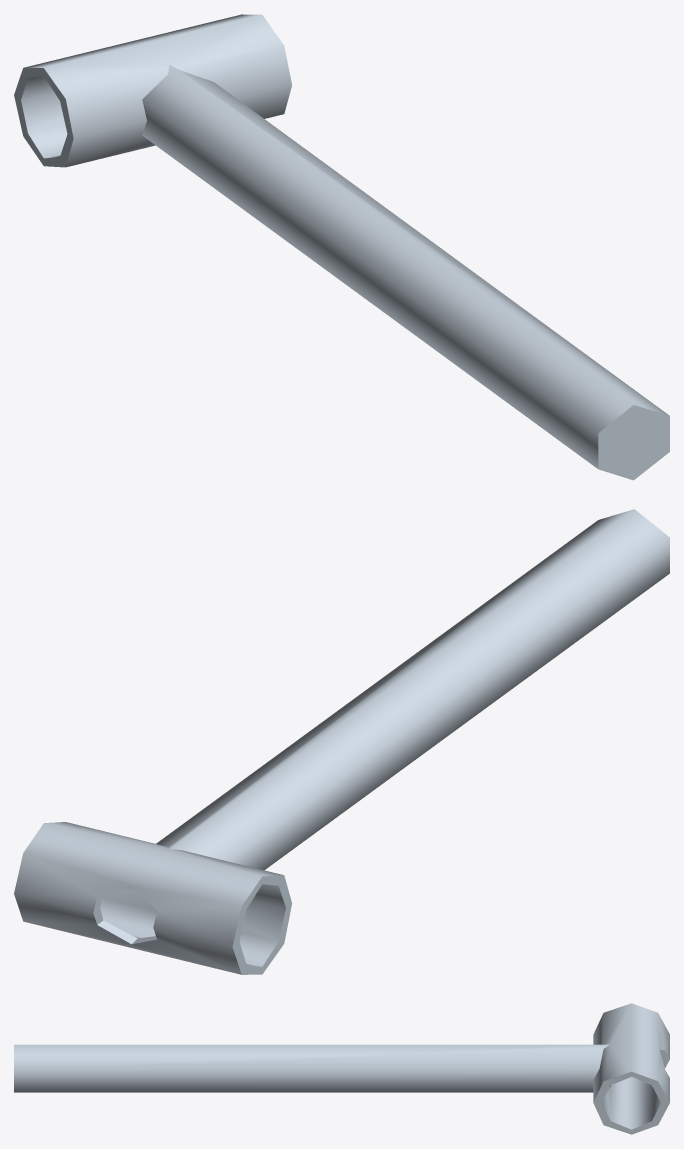
File: TankBarrel.obj
3 renders of one model, top to bottom at view 1: azimuth 30°, elevation 25°; view 2: azimuth 150°, elevation 25°; view 3: azimuth 270°, elevation 25°, orthographic. The views are drawn at different scales.
Visible parts, largest first — view 1: Barrel; view 2: Barrel; view 3: Barrel.
Part boxes in pixels (x1=…): Barrel: x1=14, y1=14, x2=669, y2=480; Barrel: x1=14, y1=509, x2=669, y2=974; Barrel: x1=14, y1=1003, x2=669, y2=1134.
Size of the model in its own units: 0.2567 by 0.1102 by 1.04.
